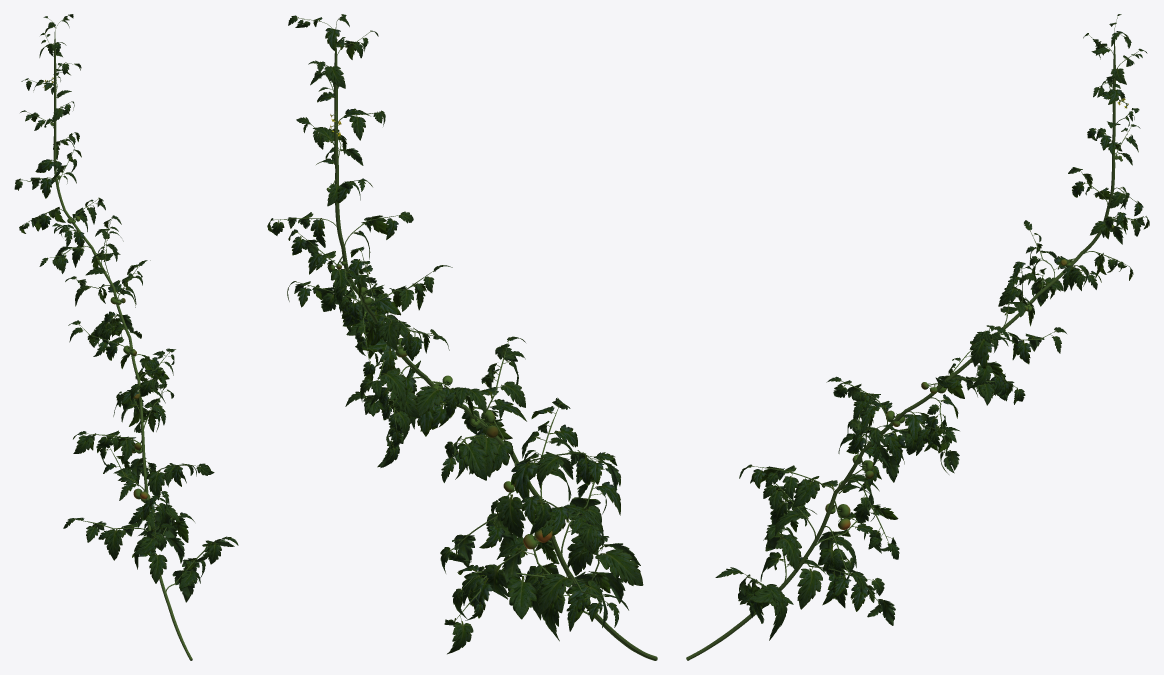
File: tomato_015.glb
3 renders of one model, left to right at view 1: azimuth 30°, elevation 25°; view 2: azimuth 150°, elevation 25°; view 3: azimuth 270°, elevation 25°, orthographic. The views are drawn at different scales.
Parts seen in each view (by area): view 1: tomato_015; view 2: tomato_015; view 3: tomato_015.
Boxes of the visible parts, x1,y1,x2,y2 form: tomato_015: [14, 14, 238, 660]; tomato_015: [267, 14, 657, 660]; tomato_015: [686, 14, 1149, 660].
Bounding box in the file's own units: 0.8184 × 2.92 × 1.86.
17 materials, 16 textured.
